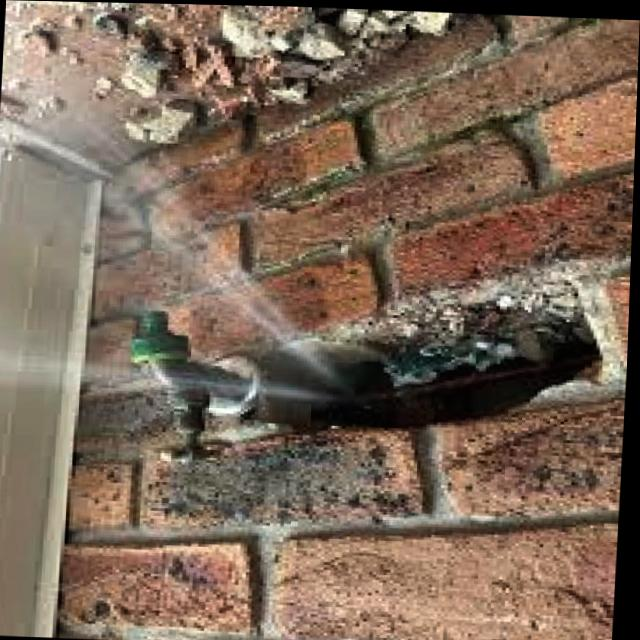leak: (226, 284, 350, 396)
